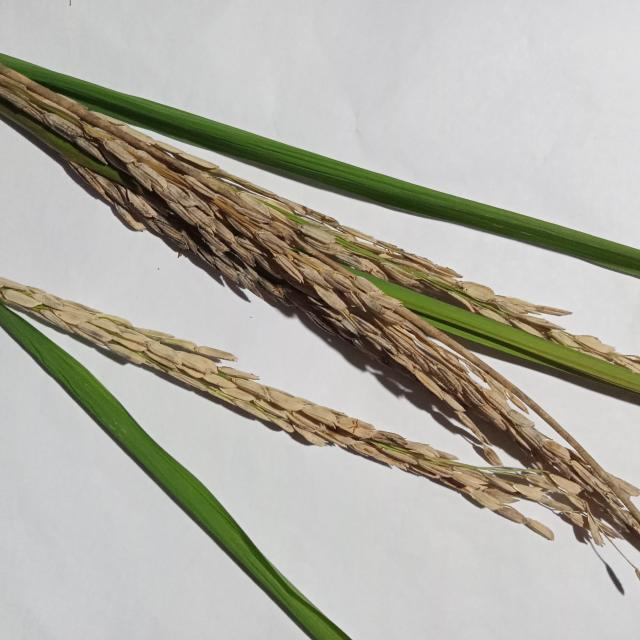Neck_Blast: (0, 48, 640, 565), (0, 281, 567, 545)
